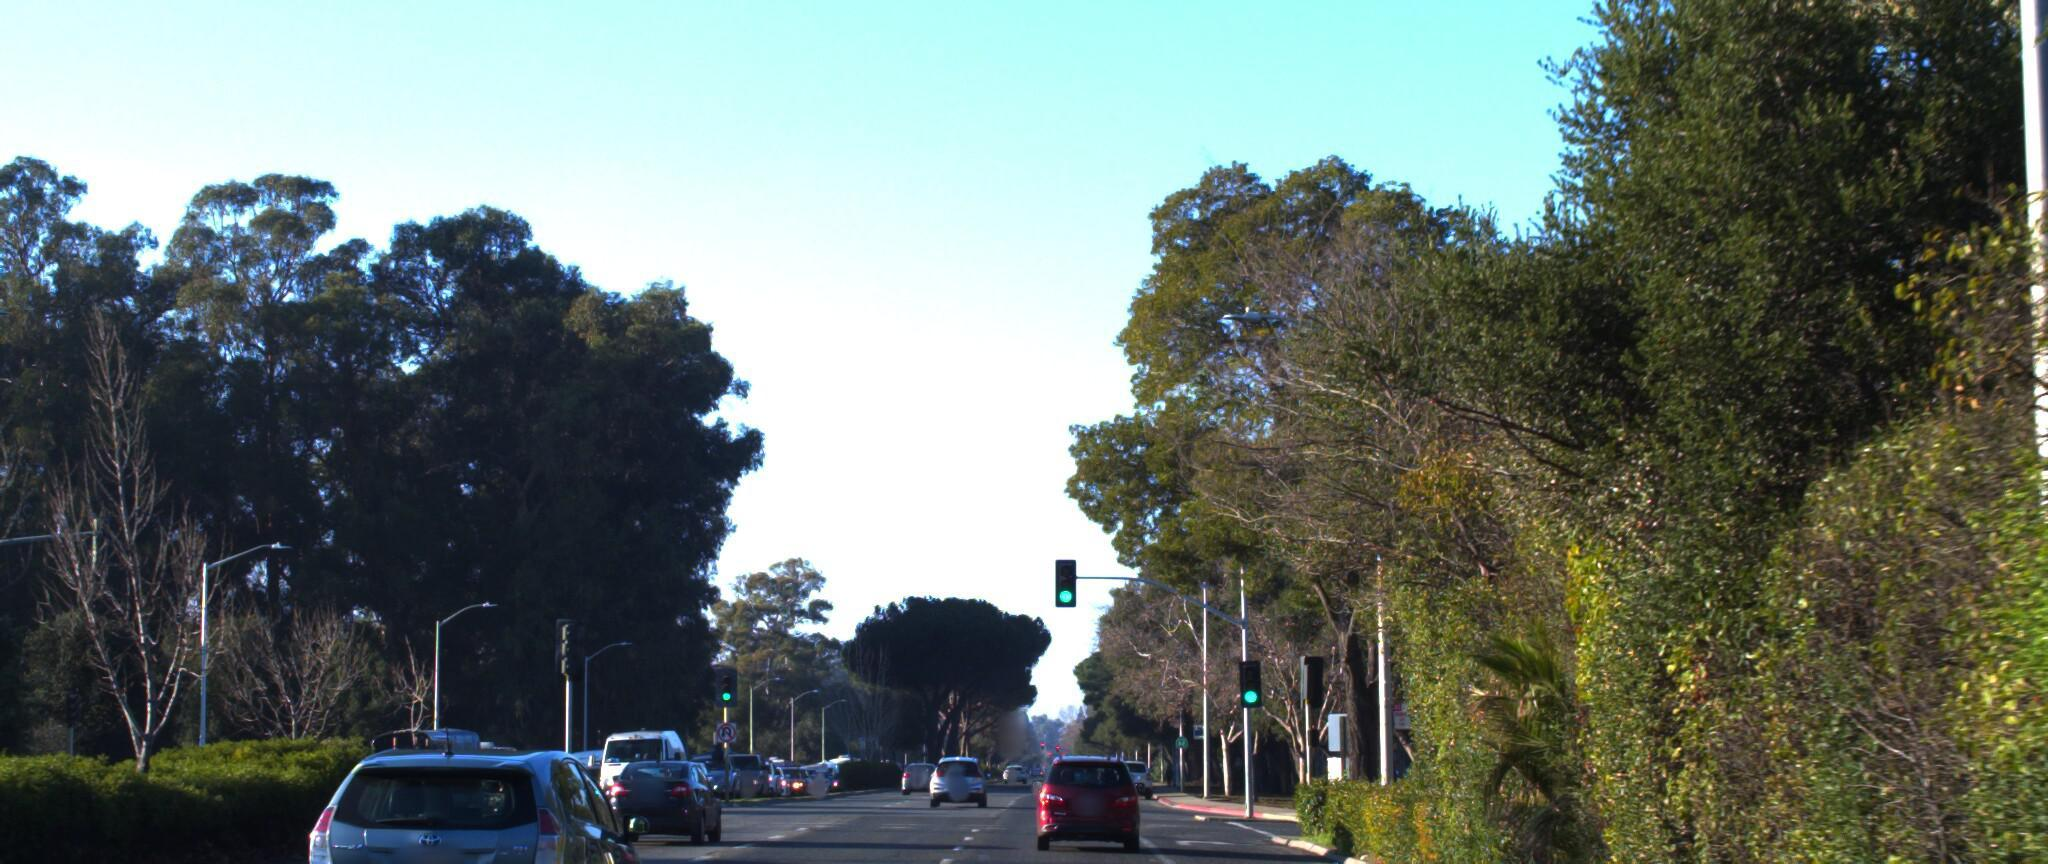car: (287, 733, 660, 864), (592, 748, 718, 838), (1031, 750, 1140, 844)
